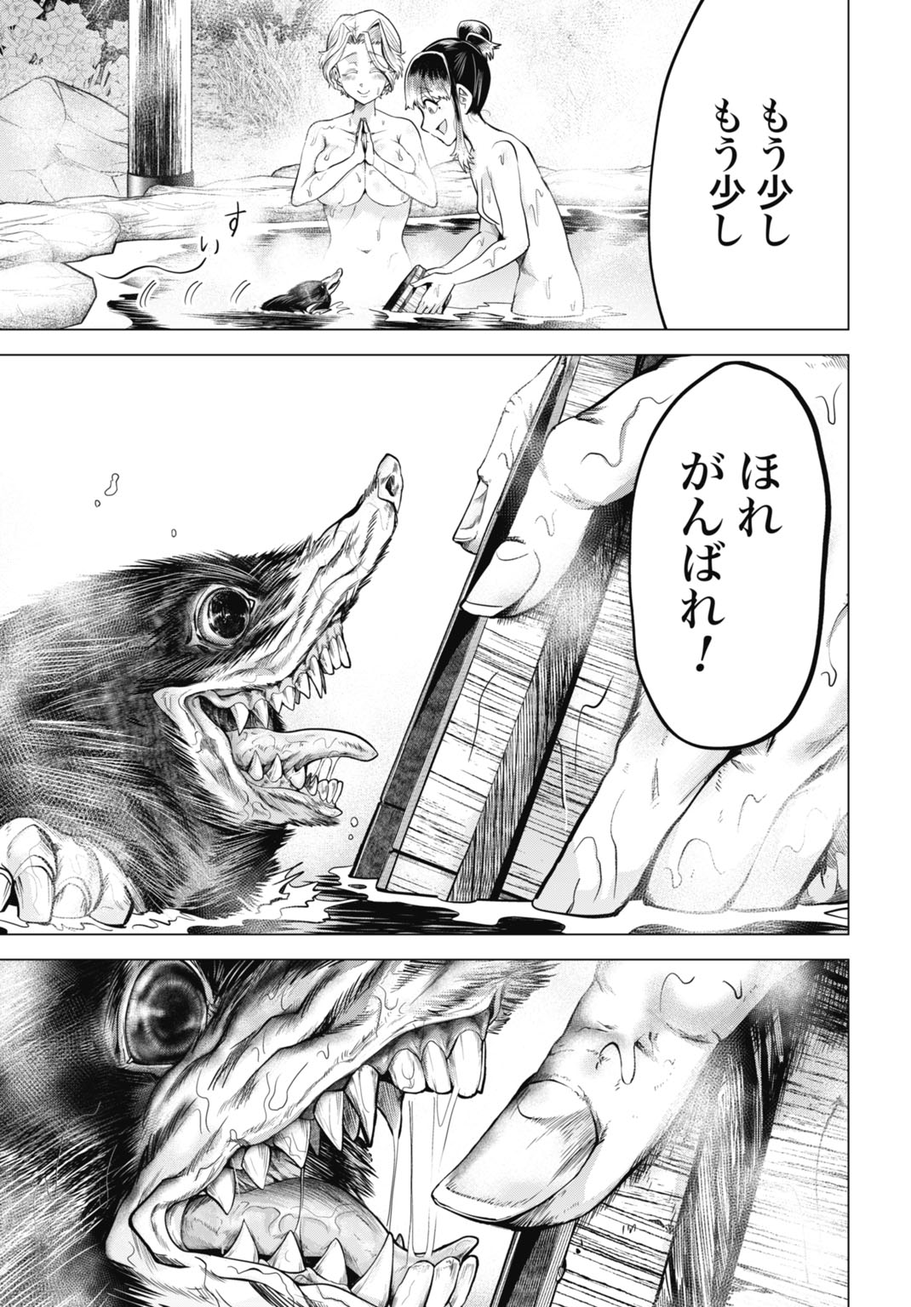bubbles: (619, 358, 829, 753), (640, 1, 848, 332)
